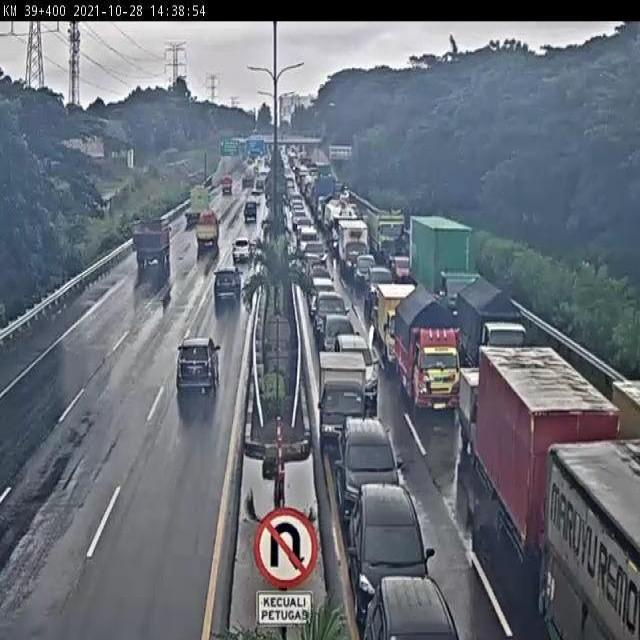car: (349, 486, 436, 618), (335, 419, 399, 531), (363, 577, 460, 640), (335, 336, 380, 403), (175, 336, 222, 396), (319, 315, 360, 369), (312, 291, 350, 343), (213, 265, 243, 307), (367, 265, 395, 308), (309, 276, 334, 316), (300, 252, 323, 295), (297, 226, 319, 262), (229, 238, 254, 266), (355, 255, 376, 288), (246, 194, 262, 214), (253, 179, 265, 193)
truck: (479, 345, 626, 595), (393, 287, 462, 416), (405, 212, 477, 329), (457, 276, 527, 380), (458, 365, 521, 468), (317, 348, 369, 449), (377, 283, 420, 369), (129, 218, 169, 274), (339, 220, 369, 276), (181, 183, 210, 232), (194, 209, 221, 251), (242, 199, 259, 225), (240, 168, 256, 193), (220, 176, 233, 195)
